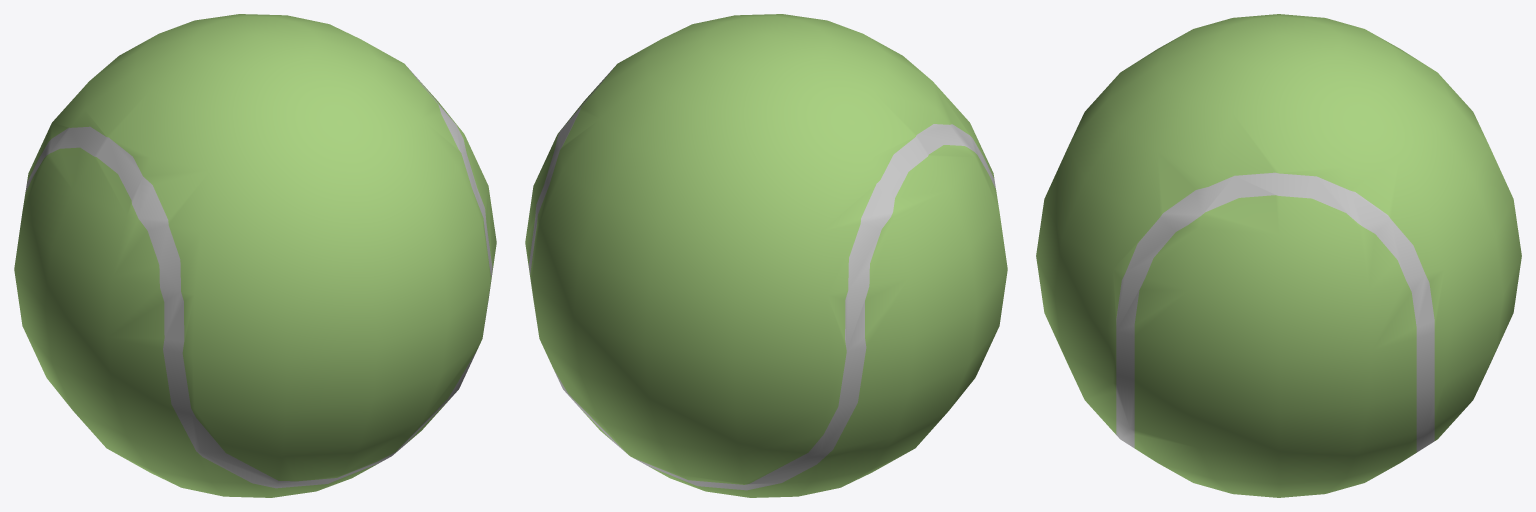
Rendered from ball.fbx.
3 renders of one model, left to right at view 1: azimuth 30°, elevation 25°; view 2: azimuth 150°, elevation 25°; view 3: azimuth 270°, elevation 25°, orthographic.
Visible parts, largest first — view 1: Group1; view 2: Group1; view 3: Group1.
Part boxes in pixels (left/top/right/bottom): Group1: left=14, top=14, right=496, bottom=497; Group1: left=525, top=14, right=1007, bottom=497; Group1: left=1036, top=14, right=1521, bottom=497.
Size of the model in its own units: 4122 by 4122 by 4122.
